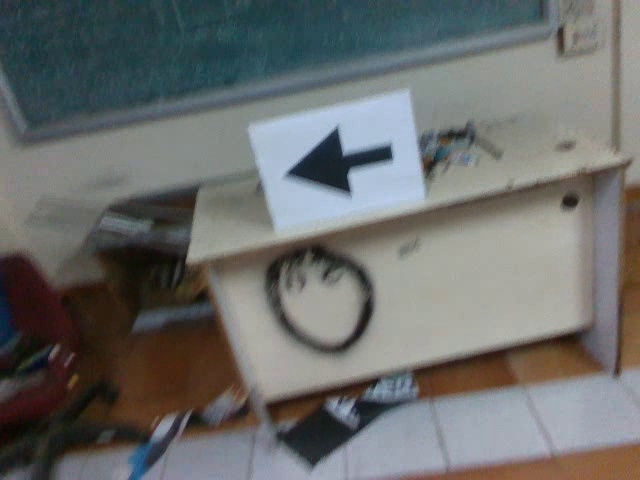Left: (275, 123, 396, 204)
